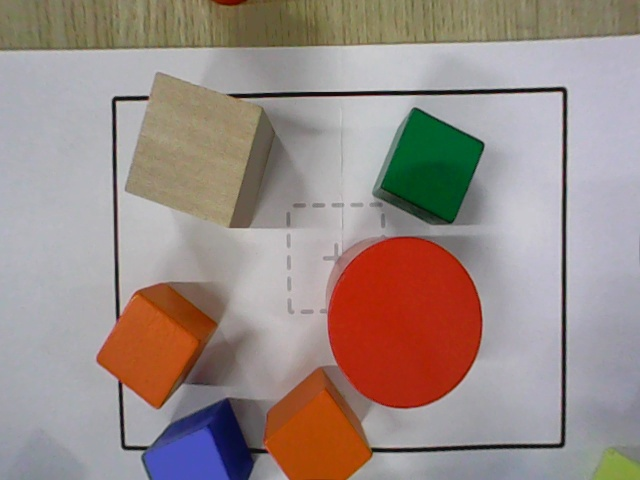upside of big cube: (123, 71, 262, 229)
upside of cylinder: (328, 237, 483, 409)
upside of small cube: (95, 292, 200, 410), (380, 109, 485, 222), (262, 388, 372, 479), (140, 427, 230, 479)
